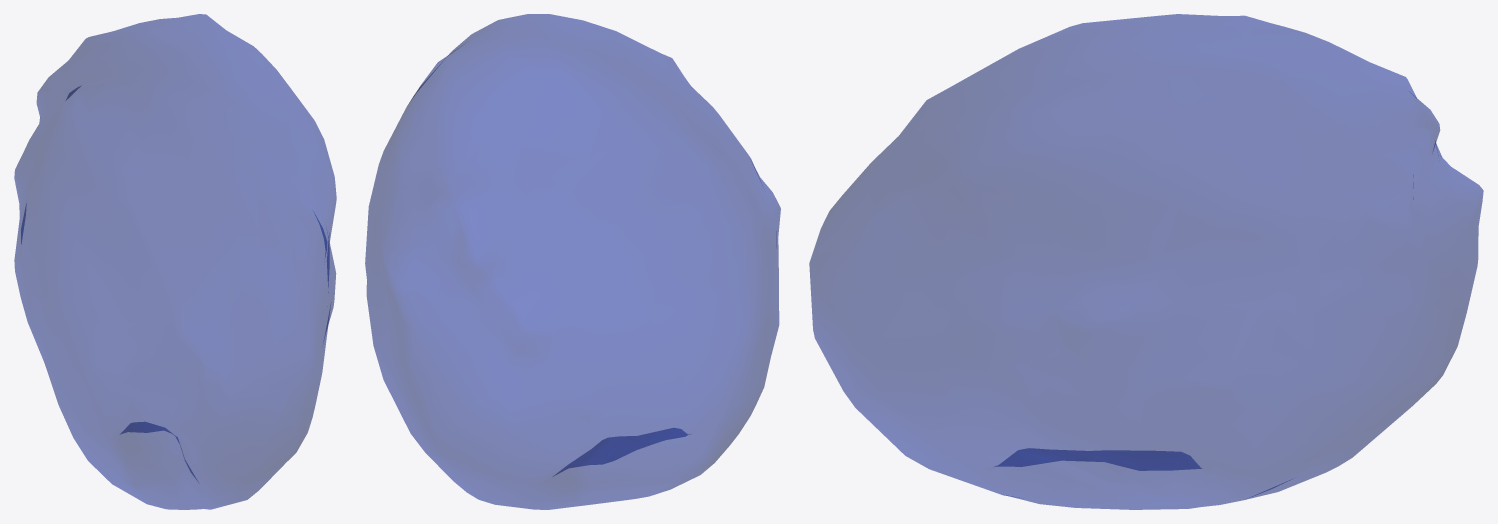
Rendered from nucleus-4.obj.
The picture shows the model from 3 angles, left to right: view 1: azimuth 30°, elevation 25°; view 2: azimuth 150°, elevation 25°; view 3: azimuth 270°, elevation 25°; orthographic projection. The views are drawn at different scales.
Parts seen in each view (by area): view 1: duplicate_nucleus_4.002; view 2: duplicate_nucleus_4.002; view 3: duplicate_nucleus_4.002.
Boxes of the visible parts, x1=… form: duplicate_nucleus_4.002: x1=14, y1=14, x2=336, y2=509; duplicate_nucleus_4.002: x1=365, y1=14, x2=780, y2=509; duplicate_nucleus_4.002: x1=809, y1=14, x2=1483, y2=509.
Size of the model in its own units: 0.4649 by 0.6991 by 0.8384.
